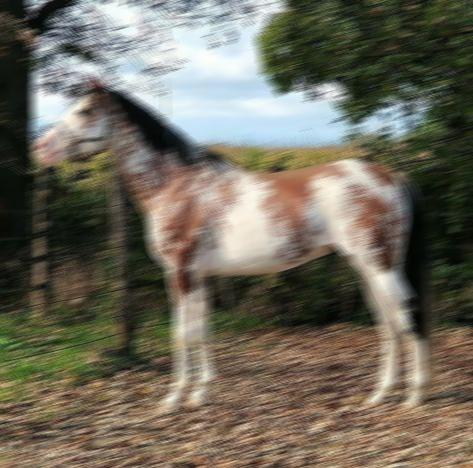horse: (32, 70, 437, 415)
